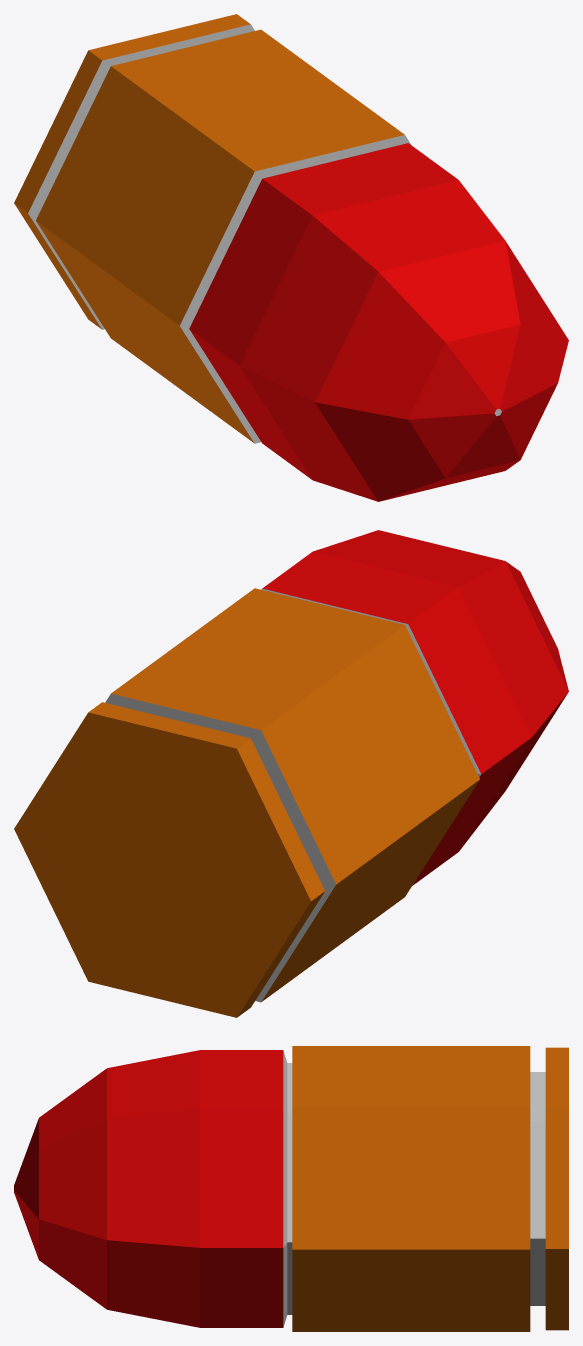
The model's file is Bullet.obj.
3 views of the same model, one above another, from view 1: azimuth 30°, elevation 25°; view 2: azimuth 150°, elevation 25°; view 3: azimuth 270°, elevation 25° (orthographic). The views are drawn at different scales.
Parts seen in each view (by area): view 1: Zylinder; view 2: Zylinder; view 3: Zylinder.
Boxes of the visible parts, x1,y1,x2,y2 form: Zylinder: (14, 14, 568, 501); Zylinder: (14, 530, 568, 1017); Zylinder: (14, 1046, 568, 1331).
Size of the model in its own units: 0.0329 by 0.0285 by 0.0636.
